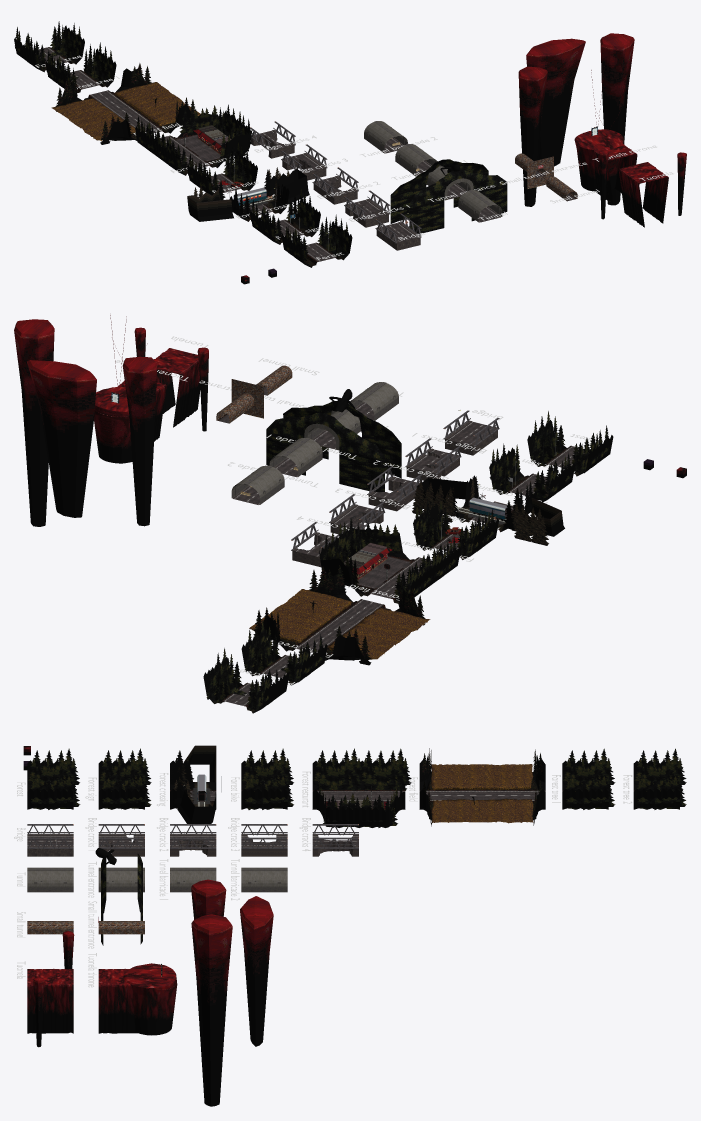
Rendered from props.glb.
3 views of the same model, one above another, from view 1: azimuth 30°, elevation 25°; view 2: azimuth 150°, elevation 25°; view 3: azimuth 270°, elevation 25° (orthographic). The views are drawn at different scales.
Parts seen in each view (by area): view 1: TuonelaThrone, ForestField, TunnelEntrance, ForestResturant, Tuonela, ForestCrossing, Forest, ForestSign, ForestTree1, ForestBike, ForestTree2, Bridge (+10 smaller); view 2: TuonelaThrone, ForestField, TunnelEntrance, ForestResturant, ForestCrossing, Tuonela, ForestTree1, ForestTree2, Forest, ForestBike, ForestSign, Bridge (+9 smaller); view 3: TuonelaThrone, ForestField, ForestResturant, Tuonela, ForestCrossing, ForestTree2, ForestSign, Forest, ForestTree1, ForestBike, TunnelEntrance, Bridge (+9 smaller).
Boxes of the visible parts, x1,y1,x2,y2 form: TuonelaThrone: [518, 33, 637, 206]; ForestField: [51, 63, 200, 144]; TunnelEntrance: [390, 159, 507, 233]; ForestResturant: [135, 104, 252, 175]; Tuonela: [599, 150, 686, 227]; ForestCrossing: [187, 167, 309, 221]; Forest: [281, 214, 352, 267]; ForestSign: [250, 188, 320, 244]; ForestTree1: [45, 42, 116, 92]; ForestBike: [187, 142, 257, 195]; ForestTree2: [14, 21, 84, 72]; Bridge: [375, 213, 421, 250]; TuonelaThrone: [14, 319, 166, 526]; ForestField: [249, 565, 430, 665]; TunnelEntrance: [266, 400, 401, 492]; ForestResturant: [319, 517, 460, 604]; ForestCrossing: [412, 475, 564, 545]; Tuonela: [134, 327, 208, 431]; ForestTree1: [241, 620, 327, 685]; ForestTree2: [203, 648, 289, 713]; Forest: [527, 411, 613, 476]; ForestBike: [413, 500, 498, 559]; ForestSign: [489, 443, 575, 502]; Bridge: [443, 410, 499, 455]; TuonelaThrone: [98, 879, 273, 1106]; ForestField: [419, 748, 545, 826]; ForestResturant: [312, 748, 411, 827]; Tuonela: [27, 931, 74, 1047]; ForestCrossing: [170, 745, 216, 823]; ForestTree2: [633, 748, 686, 809]; ForestSign: [98, 748, 151, 809]; Forest: [27, 748, 80, 809]; ForestTree1: [562, 748, 615, 809]; ForestBike: [241, 748, 293, 809]; TunnelEntrance: [98, 853, 144, 945]; Bridge: [27, 824, 73, 856].
Size of what is drawn, in the model's own units: 173 by 58.01 by 189.
20 materials, 17 textured.
